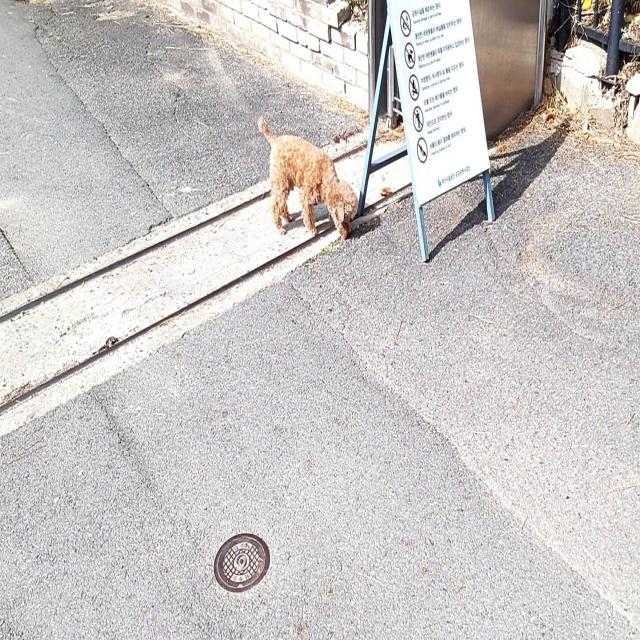Dog: (258, 118, 357, 238)
